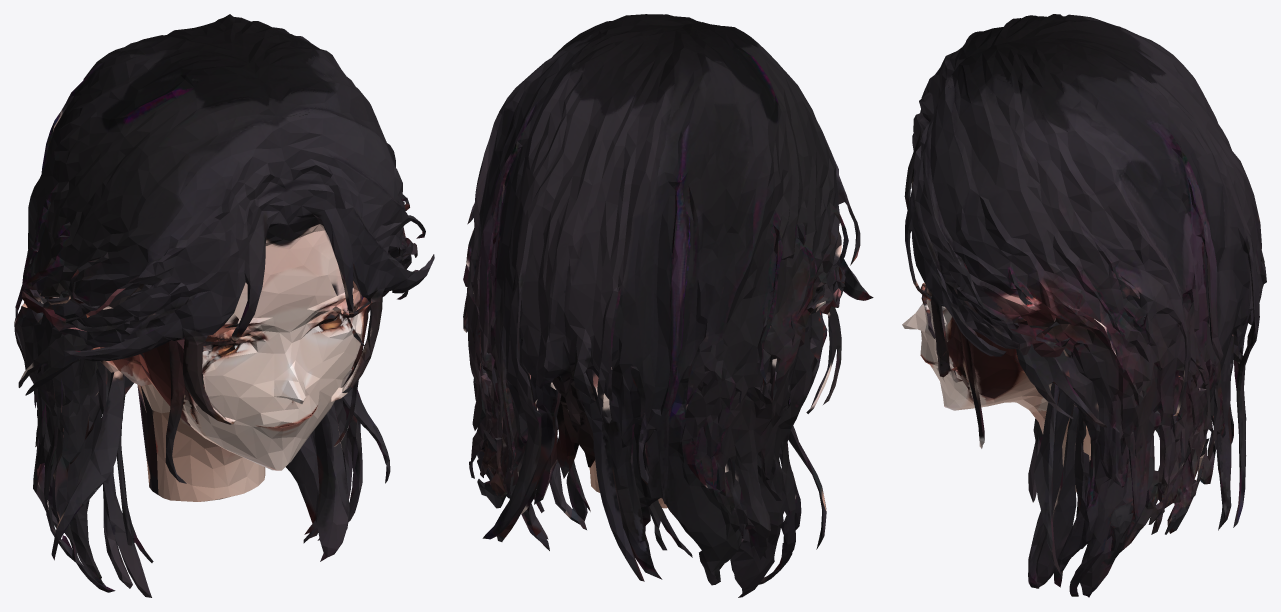
File: side_dojipoet_repaired_atlas.glb
The picture shows the model from 3 angles, left to right: view 1: azimuth 30°, elevation 25°; view 2: azimuth 150°, elevation 25°; view 3: azimuth 270°, elevation 25°; orthographic projection. The views are drawn at different scales.
Parts seen in each view (by area): view 1: temp_mesh.ply; view 2: temp_mesh.ply; view 3: temp_mesh.ply.
Part boxes in pixels (x1=…): temp_mesh.ply: x1=14, y1=14, x2=434, y2=597; temp_mesh.ply: x1=463, y1=14, x2=873, y2=597; temp_mesh.ply: x1=902, y1=14, x2=1266, y2=597.
Size of the model in its own units: 1.42 by 1.97 by 1.26.
1 material, 1 textured.
